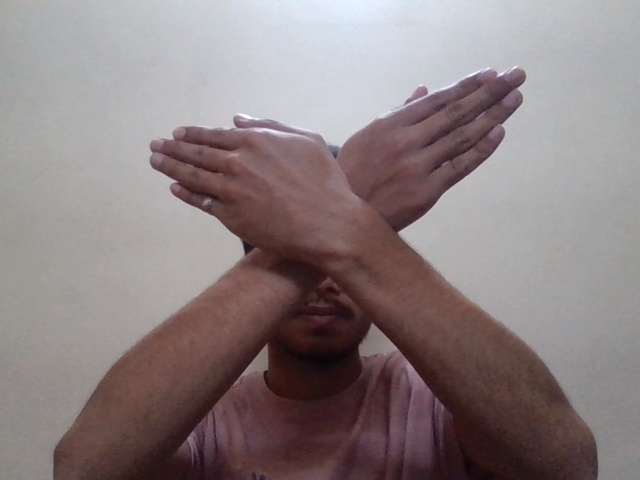feel: (119, 47, 562, 330)
